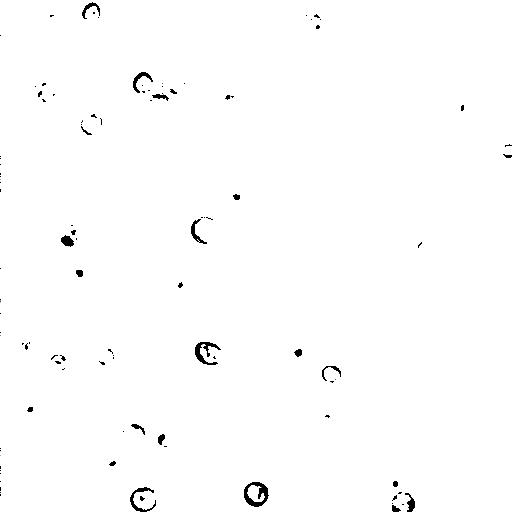micro-algae: (41, 86, 126, 178), (58, 403, 135, 479), (109, 391, 174, 457), (223, 414, 286, 475), (61, 92, 114, 149), (46, 255, 94, 303), (470, 451, 511, 499), (145, 36, 186, 78), (45, 222, 89, 259), (292, 399, 340, 427), (393, 0, 454, 22), (296, 4, 333, 40), (359, 73, 395, 110), (175, 428, 211, 462), (160, 68, 194, 102), (485, 30, 511, 72), (189, 213, 221, 246), (33, 79, 64, 110), (281, 340, 312, 368), (164, 267, 191, 298), (128, 486, 160, 512), (34, 7, 64, 34), (194, 339, 224, 366), (86, 343, 117, 369), (384, 469, 410, 500), (243, 480, 270, 508), (150, 428, 180, 453), (13, 334, 39, 362), (16, 394, 45, 419), (444, 91, 470, 118), (217, 86, 242, 112), (1, 460, 15, 506), (80, 112, 105, 136), (122, 423, 148, 446), (390, 490, 417, 512), (132, 71, 155, 96), (45, 352, 68, 377), (286, 444, 311, 467), (103, 452, 129, 474), (82, 2, 103, 24), (320, 364, 343, 383), (263, 95, 283, 116), (416, 238, 437, 258), (442, 77, 458, 93), (229, 191, 248, 204), (502, 143, 512, 159)
